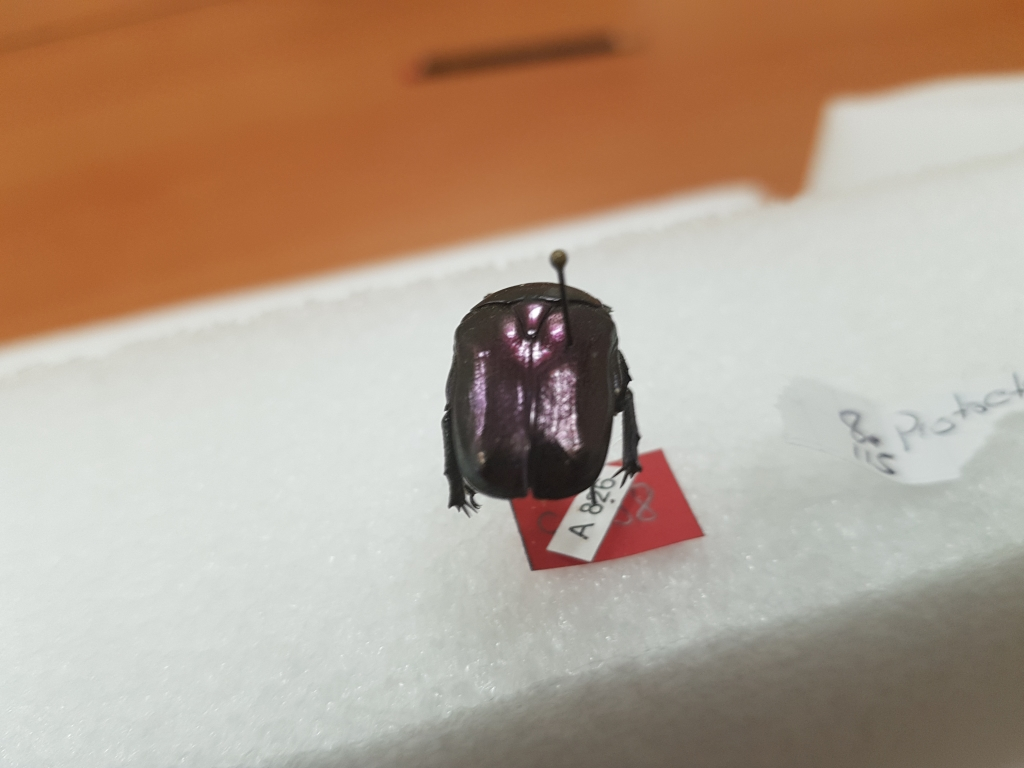Protaetia_besucheti: (434, 254, 655, 505)
